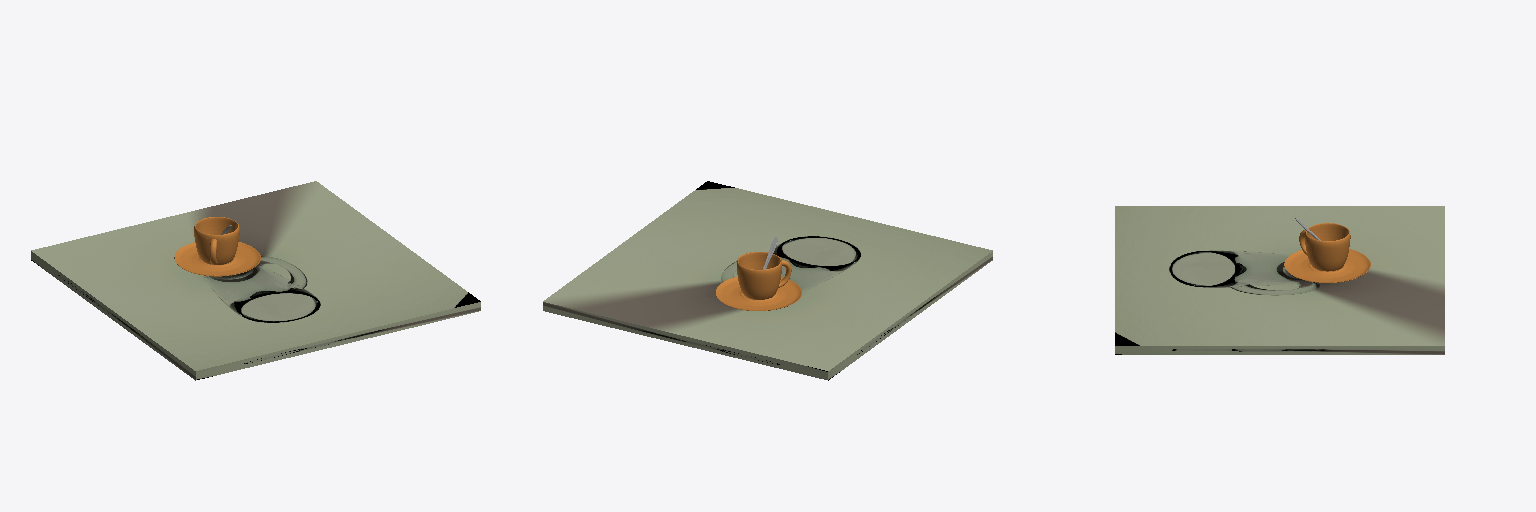
The picture shows the model from 3 angles: view 1: azimuth 30°, elevation 25°; view 2: azimuth 150°, elevation 25°; view 3: azimuth 270°, elevation 25°; orthographic projection.
Visible parts, largest first — view 1: Cube, Circle.001, Circle; view 2: Cube, Circle.001, Circle; view 3: Cube, Circle.001, Circle.
Part boxes in pixels (left/top/right/bottom): Cube: left=31, top=181, right=480, bottom=380; Circle.001: left=194, top=217, right=239, bottom=264; Circle: left=174, top=242, right=260, bottom=276; Cube: left=543, top=181, right=992, bottom=380; Circle.001: left=737, top=252, right=791, bottom=299; Circle: left=716, top=277, right=801, bottom=310; Cube: left=1115, top=206, right=1444, bottom=354; Circle.001: left=1299, top=223, right=1350, bottom=271; Circle: left=1284, top=249, right=1370, bottom=282.
Size of the model in its own units: 6.56 by 1.29 by 6.56.
3 materials, 1 textured.